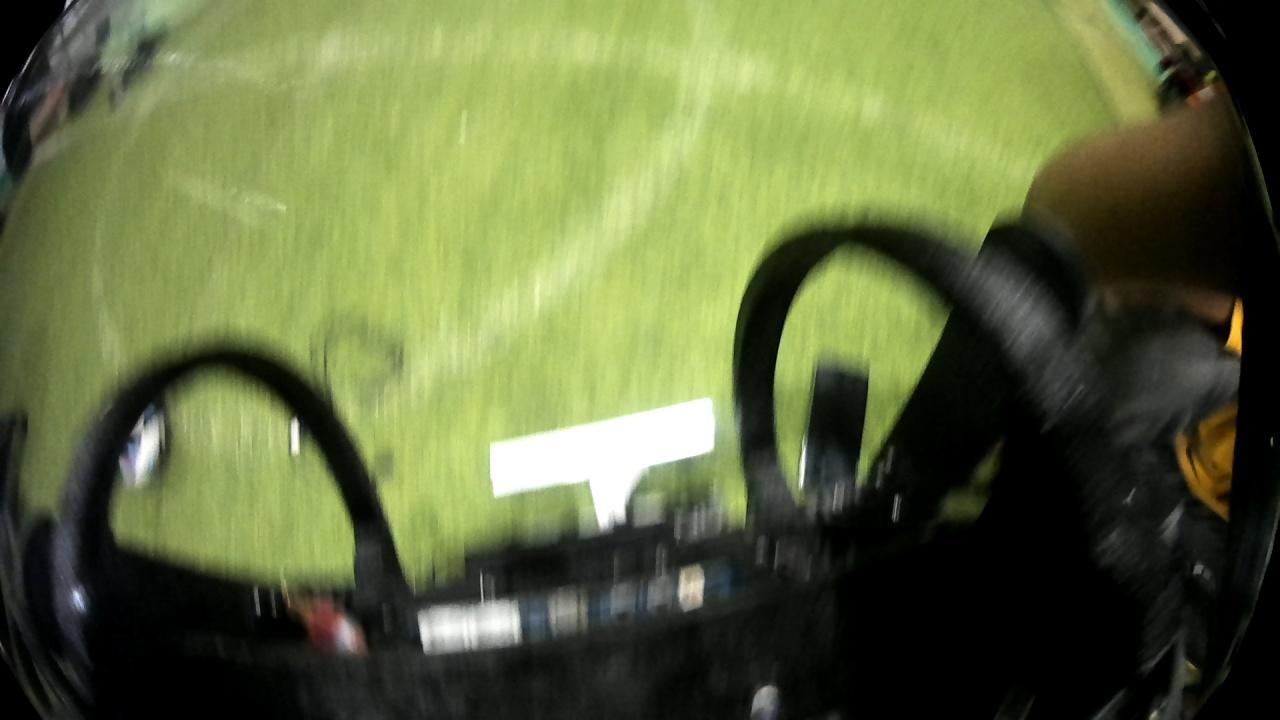ball: (113, 395, 171, 495)
